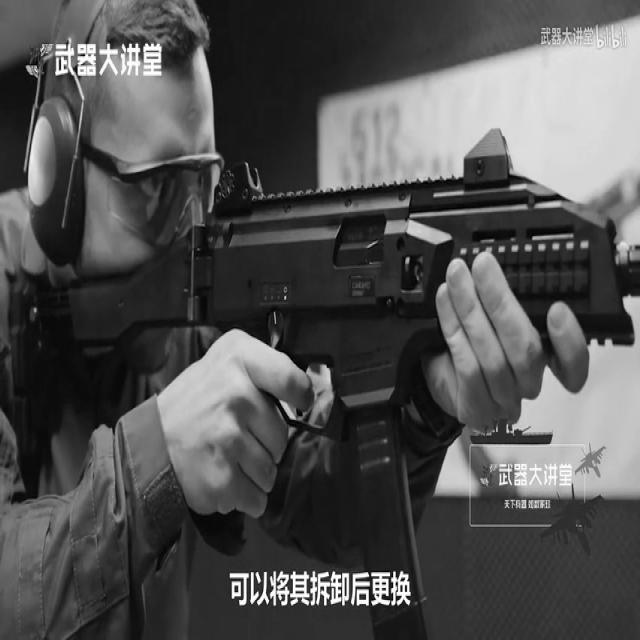Sub-machine-gun: (0, 104, 627, 583)
